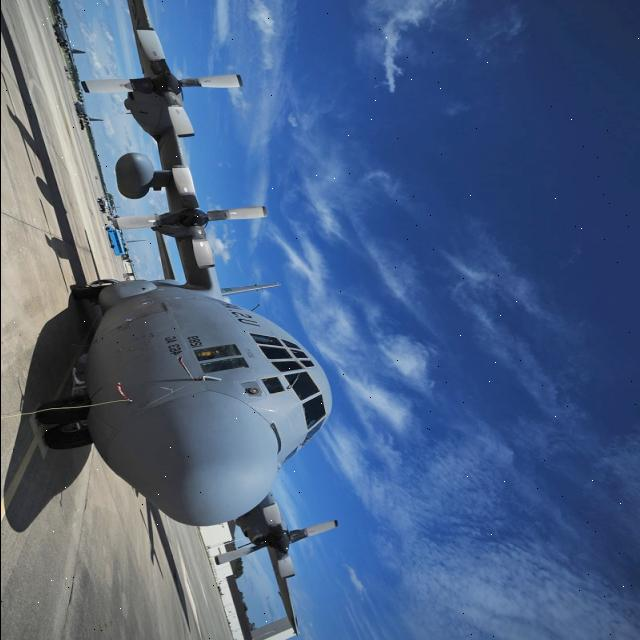C130: (13, 0, 393, 622)
